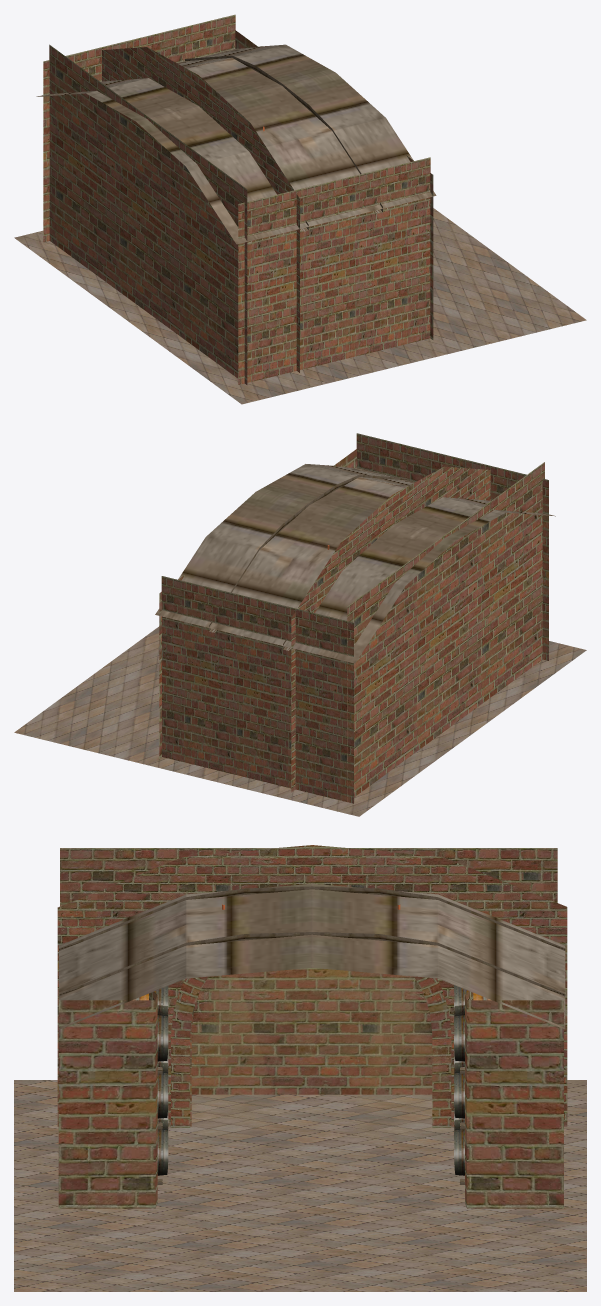
File: wine2.gltf
The picture shows the model from 3 angles, top to bottom: view 1: azimuth 30°, elevation 25°; view 2: azimuth 150°, elevation 25°; view 3: azimuth 270°, elevation 25°; orthographic projection. The views are drawn at different scales.
Visible parts, largest first — view 1: PAred, PAred.001, Techo, Suelo, wall_2, Bases, vigas; view 2: PAred, PAred.001, Techo, Suelo, wall_2, Bases, vigas; view 3: Suelo, Bases, Techo, PAred.001, wall_2, arch, vigas, Barrel_low, Light_gradient.
Boxes of the visible parts, x1,y1,x2,y2 form: PAred: [43, 14, 430, 384]; PAred.001: [49, 44, 247, 384]; Techo: [36, 44, 436, 244]; Suelo: [14, 208, 586, 404]; wall_2: [102, 47, 299, 372]; Bases: [235, 30, 433, 339]; vigas: [185, 55, 382, 231]; PAred: [161, 433, 548, 803]; PAred.001: [347, 462, 544, 801]; Techo: [155, 464, 555, 663]; Suelo: [14, 626, 586, 816]; wall_2: [291, 466, 490, 792]; Bases: [159, 449, 356, 758]; vigas: [209, 474, 407, 650]; Suelo: [14, 1080, 586, 1291]; Bases: [58, 991, 563, 1208]; Techo: [59, 845, 565, 1029]; PAred.001: [60, 848, 557, 1094]; wall_2: [57, 845, 567, 1126]; arch: [171, 976, 451, 1127]; vigas: [59, 886, 565, 996]; Barrel_low: [133, 985, 491, 1175]; Light_gradient: [212, 975, 420, 1044].
Size of the model in its own units: 28.61 by 18.76 by 32.7.
6 materials, 5 textured.
